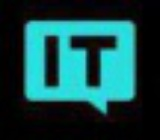ImgButton: (1, 1, 159, 139)
